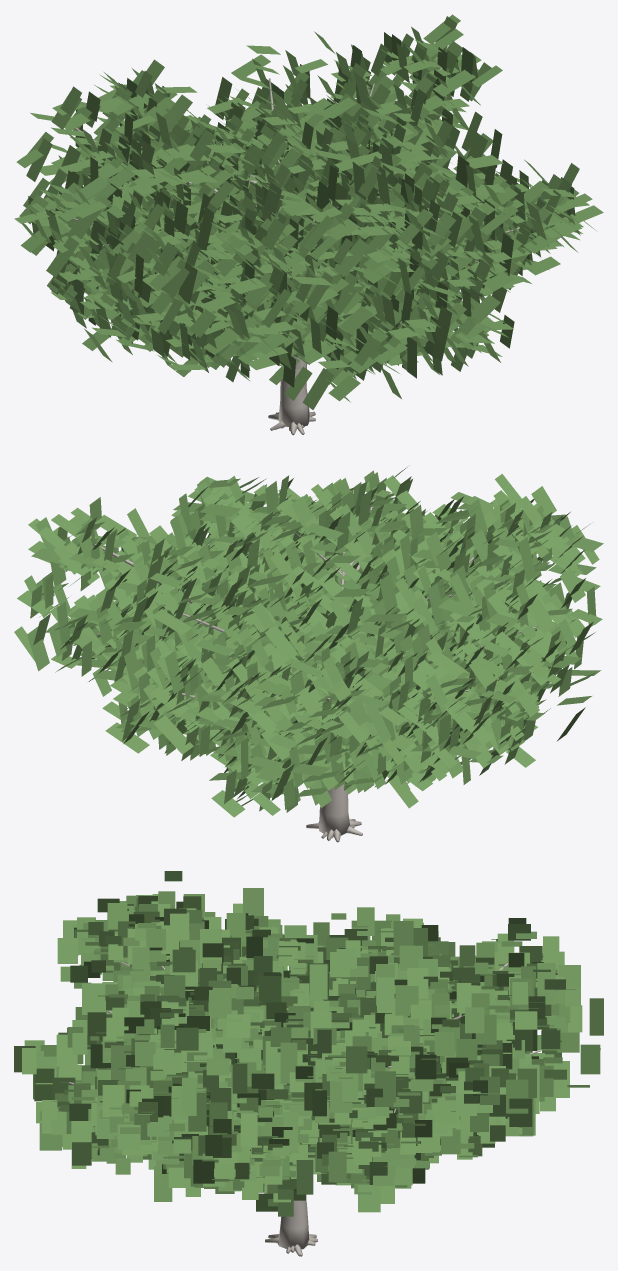
File: magnolia.glb
3 views of the same model, one above another, from view 1: azimuth 30°, elevation 25°; view 2: azimuth 150°, elevation 25°; view 3: azimuth 270°, elevation 25° (orthographic).
Parts seen in each view (by area): view 1: Magnolia_1, Magnolia_4, Magnolia_2, Magnolia_5, Magnolia_3; view 2: Magnolia_1, Magnolia_4, Magnolia_2, Magnolia_5, Magnolia_3; view 3: Magnolia_1, Magnolia_4, Magnolia_2, Magnolia_5, Magnolia_3.
Boxes of the visible parts, left/top/right/bottom form: Magnolia_1: left=14, top=31, right=475, bottom=431; Magnolia_4: left=16, top=83, right=603, bottom=430; Magnolia_2: left=22, top=14, right=502, bottom=434; Magnolia_5: left=23, top=120, right=562, bottom=435; Magnolia_3: left=58, top=111, right=514, bottom=429; Magnolia_1: left=14, top=474, right=603, bottom=837; Magnolia_4: left=127, top=465, right=602, bottom=835; Magnolia_2: left=28, top=497, right=591, bottom=838; Magnolia_5: left=77, top=481, right=600, bottom=842; Magnolia_3: left=130, top=579, right=526, bottom=840; Magnolia_1: left=57, top=871, right=582, bottom=1253; Magnolia_4: left=67, top=888, right=559, bottom=1256; Magnolia_2: left=14, top=946, right=603, bottom=1256; Magnolia_5: left=111, top=896, right=455, bottom=1252; Magnolia_3: left=36, top=1022, right=539, bottom=1251.
Size of the model in its own units: 4.64 by 2.96 by 5.04.
